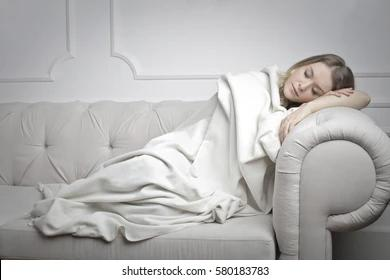blanket: (25, 64, 300, 243)
